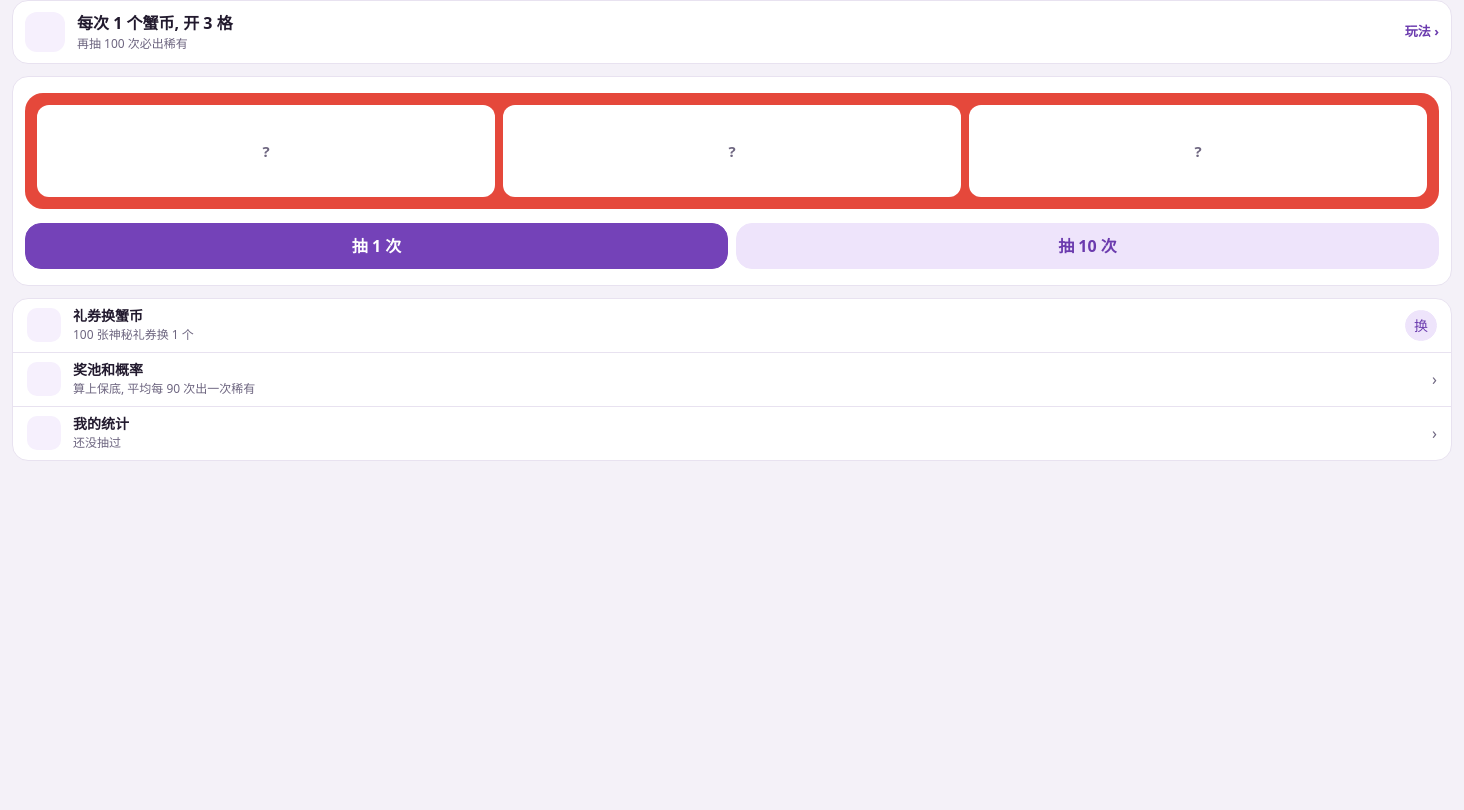
Test: SlotPanel › 抽 1 次：显示每格的奖项和合并后的奖励，并通知刷新
The image size is (1464, 810).
Expected: the elements with class "dt-slot-reel" read "?", "?", "?", in this order, [37,105,495,197]; [503,105,961,197]; [969,105,1427,197]
What coordinates should you click on to do the following:
click the button with test id "slot-1"
I would click on:
 (376, 246)
Its box is [25,223,728,269].
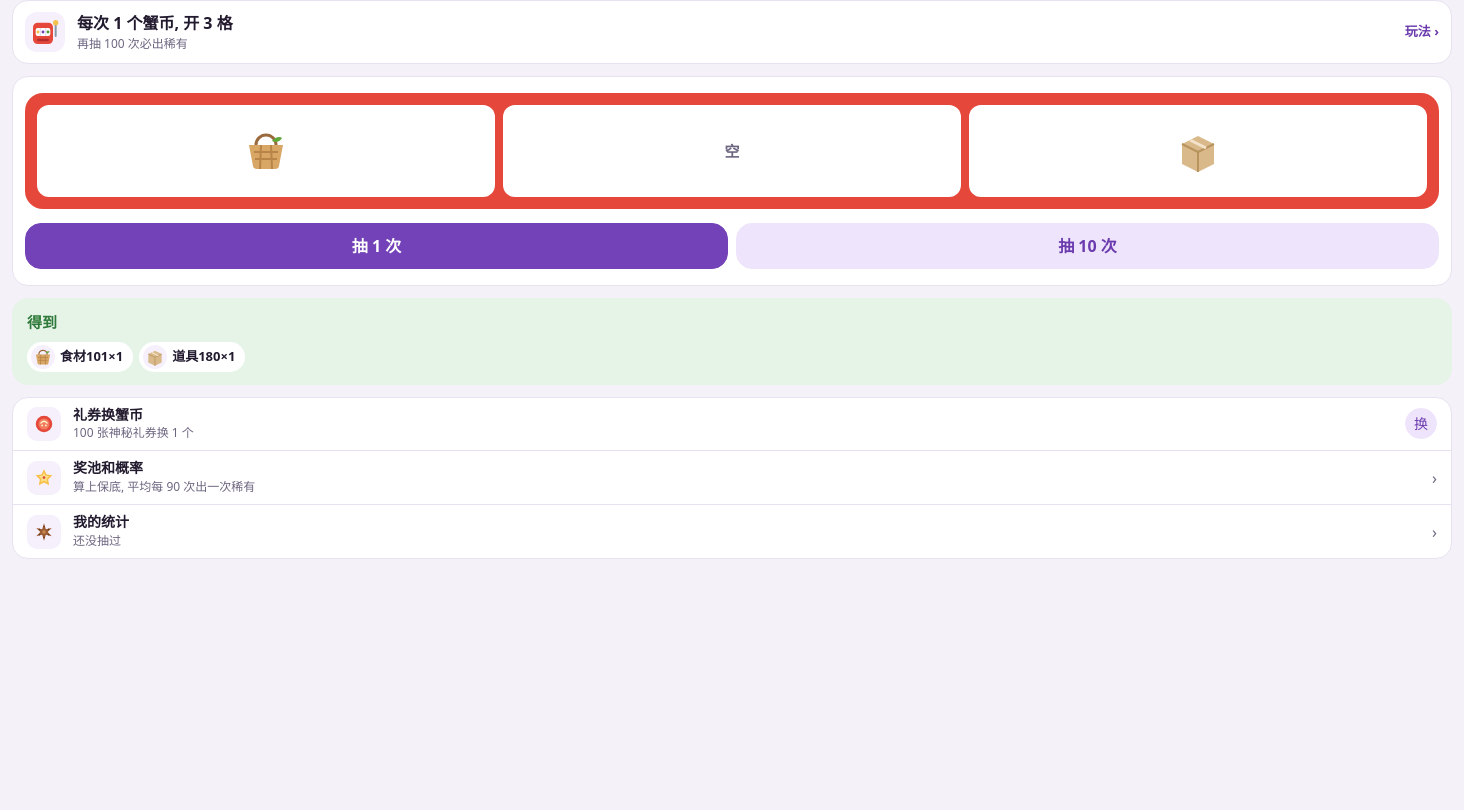
Expected: the text with class "dt-slot-reel" reads "空", [724,141,740,161]
Expected: the text "得到" is shown, [27,312,57,332]
Expected: the elements with test id "award-chip" read "食材101×1", "道具180×1", in this order, [27,342,133,372]; [139,342,245,372]
What coordinates should you click on to do the following:
click the button with test id "slot-10"
I would click on:
 (1088, 246)
Its box is [736,223,1439,269].
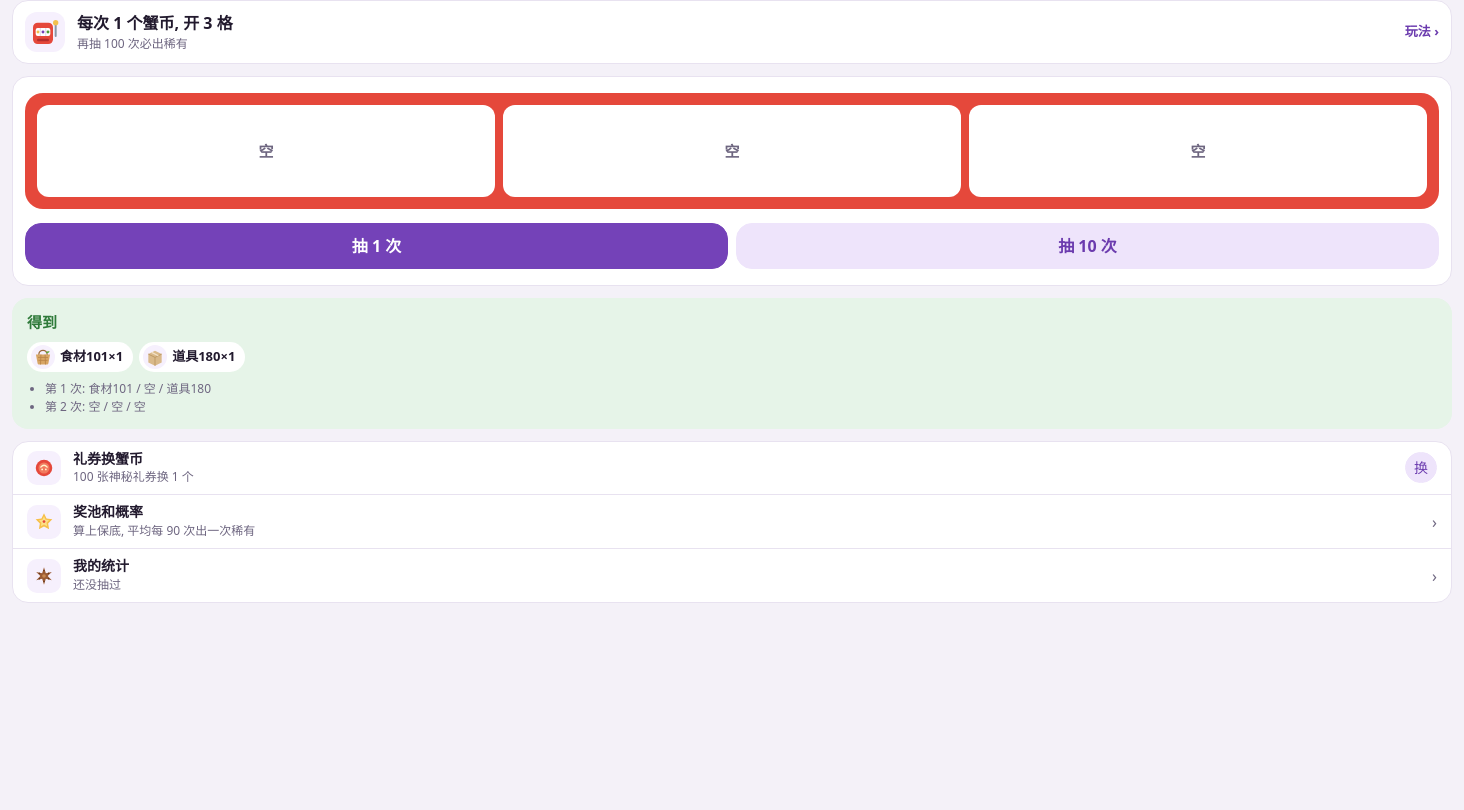
Expected: the elements with class "dt-slot-reel" read "空", "空", "空", in this order, [37,105,495,197]; [503,105,961,197]; [969,105,1427,197]
What coordinates should you click on to do the following:
click the button with test id "slot-1"
I would click on:
 (376, 246)
Its box is [25,223,728,269].
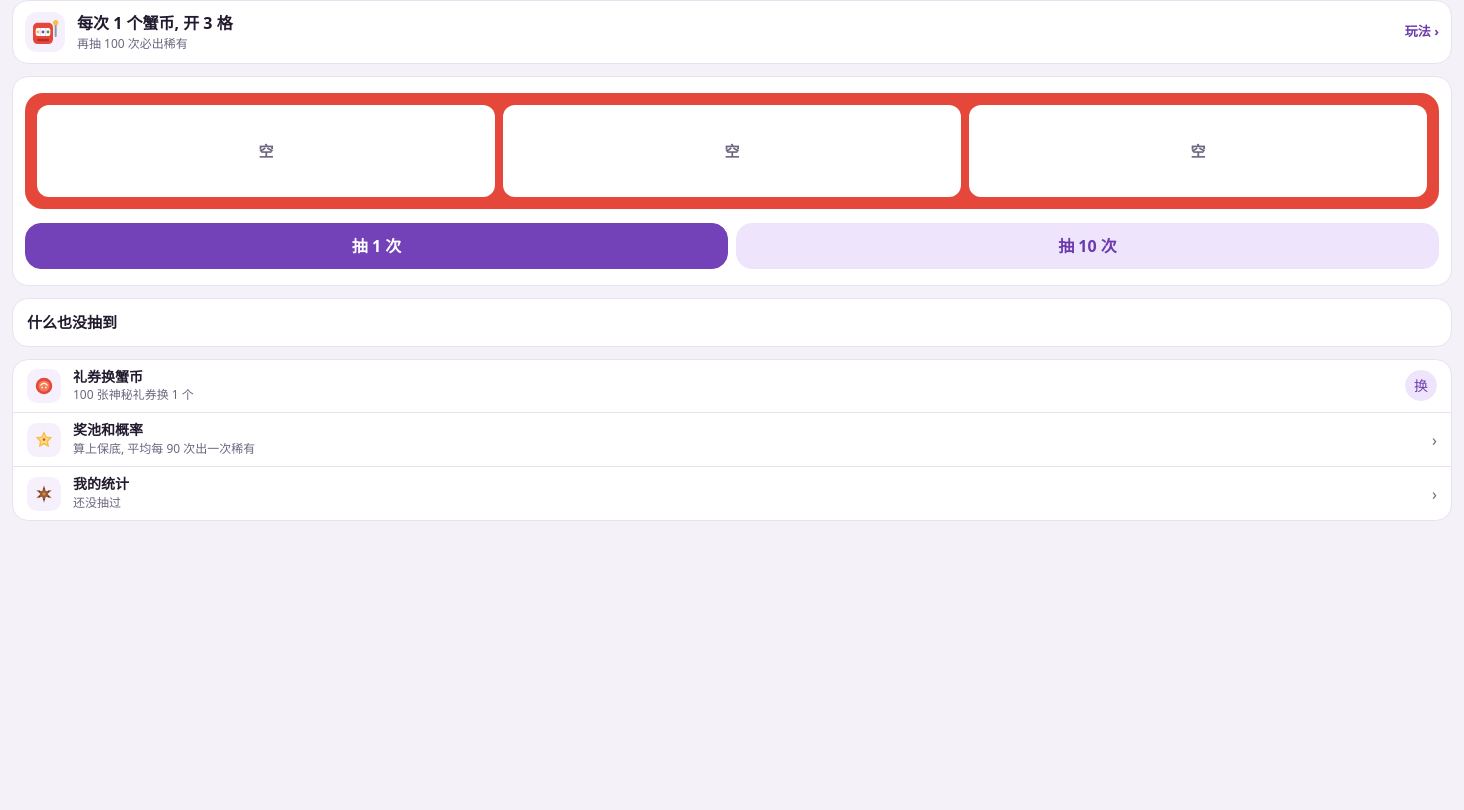
Expected: the message with test id "slot-result" reads "什么也没抽到", [27,312,117,332]
